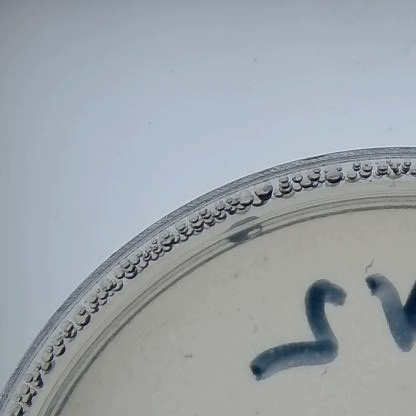worm: (314, 361, 332, 390), (242, 309, 258, 339), (362, 254, 378, 275)
